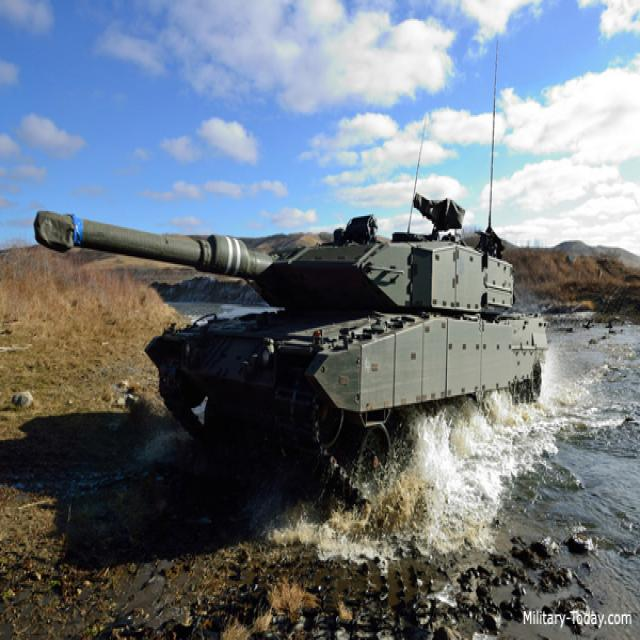Tank: (30, 158, 546, 455)
